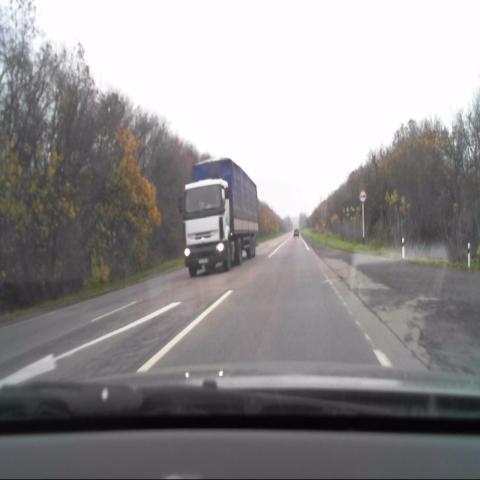3_20: (358, 191, 366, 202)
